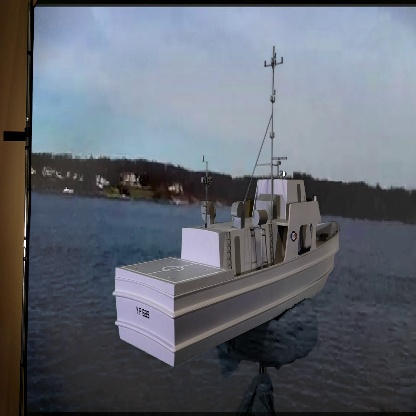YP689: (115, 46, 340, 373)
